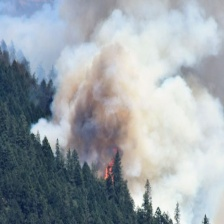fire: (103, 160, 117, 183)
smoke: (1, 1, 224, 210)
